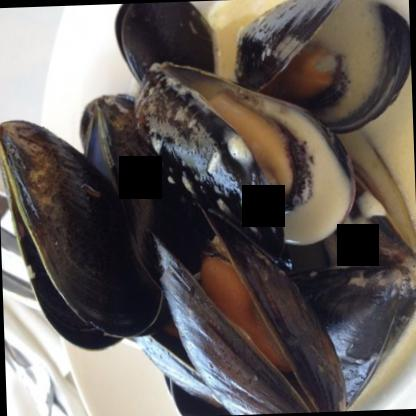mussel: (133, 52, 358, 250), (0, 112, 162, 350), (162, 213, 348, 415), (232, 0, 413, 142)
